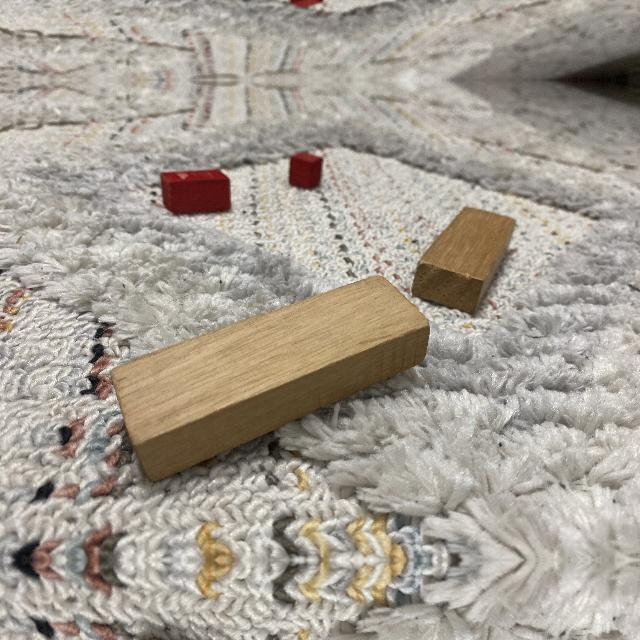jenga: (116, 275, 431, 484), (412, 207, 516, 315)
red block: (159, 169, 232, 217)
red cube: (288, 152, 325, 191)
